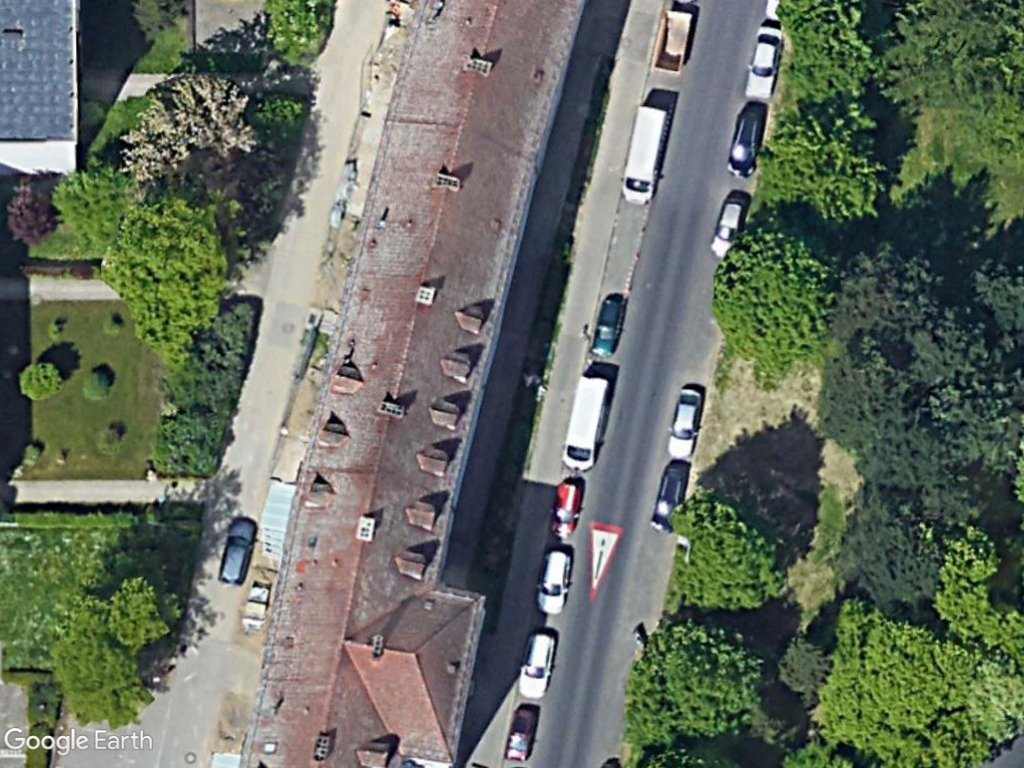car: (742, 23, 788, 102), (646, 463, 691, 539), (664, 382, 706, 462), (515, 628, 559, 704), (724, 103, 766, 181), (214, 511, 257, 587), (706, 192, 751, 262), (534, 546, 572, 620), (587, 292, 626, 360), (545, 478, 584, 544), (502, 703, 540, 767)
van: (617, 100, 670, 207), (558, 369, 611, 474)
